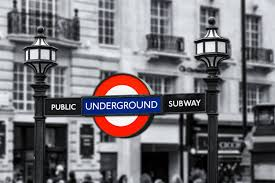London Underground: (84, 76, 163, 136)
